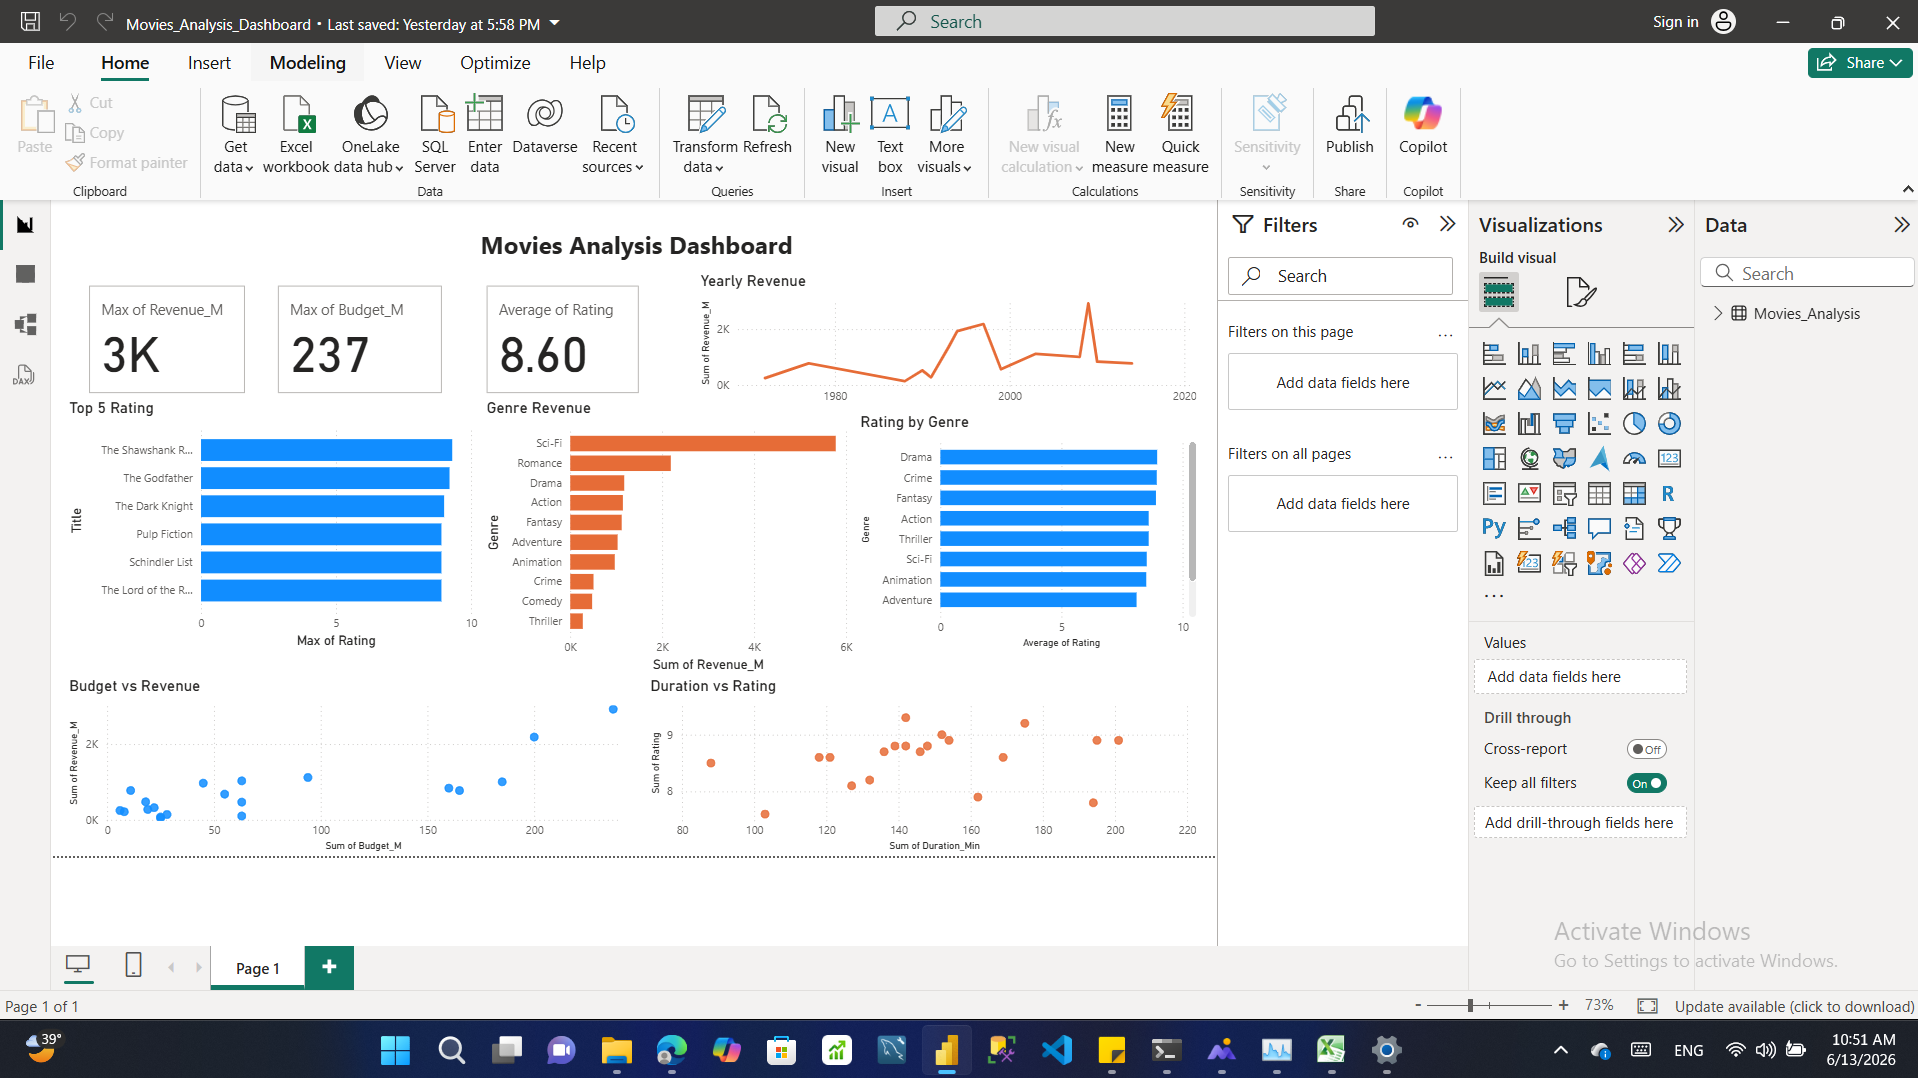

This screenshot's page, from the dashboard's own definition file:
{"tool":"powerbi","page":{"name":"Page 1","canvas":[1280,720],"ordinal":0},"visuals":[{"type":"cardVisual","fields":{"Data":["Max(Movies_Analysis.Revenue_M)"]},"box":[37,89.2,181.1,129],"z":0},{"type":"cardVisual","fields":{"Data":["Max(Movies_Analysis.Budget_M)"]},"box":[244.3,89.2,190.7,129],"z":1},{"type":"cardVisual","fields":{"Data":["Avg(Movies_Analysis.Rating)"]},"box":[473.4,89.2,177,129],"z":2},{"type":"clusteredBarChart","title":"Top 5 Rating ","fields":{"Category":["Movies_Analysis.Title"],"Y":["Max(Movies_Analysis.Rating)"]},"box":[15.1,218.2,458.3,278.6],"z":3},{"type":"clusteredBarChart","title":"Genre Revenue ","fields":{"Category":["Movies_Analysis.Genre"],"Y":["Sum(Movies_Analysis.Revenue_M)"]},"box":[473.4,218.2,411.7,304.6],"z":4},{"type":"lineChart","title":"Yearly Revenue ","fields":{"Category":["Movies_Analysis.Year"],"Y":["Sum(Movies_Analysis.Revenue_M)"]},"box":[708.1,78.2,554.4,155.1],"z":5},{"type":"scatterChart","title":"Budget vs Revenue ","fields":{"X":["Sum(Movies_Analysis.Budget_M)"],"Y":["Sum(Movies_Analysis.Revenue_M)"],"Category":["Movies_Analysis.Title"]},"box":[15.1,522.8,624.4,197.6],"z":6},{"type":"scatterChart","title":"Duration vs Rating","fields":{"X":["Sum(Movies_Analysis.Duration_Min)"],"Y":["Sum(Movies_Analysis.Rating)"],"Category":["Movies_Analysis.Title"]},"box":[653.2,522.8,609.3,197.6],"z":7},{"type":"clusteredBarChart","title":"Rating by Genre","fields":{"Category":["Movies_Analysis.Genre"],"Y":["Avg(Movies_Analysis.Rating)"]},"box":[883.7,233.3,378.7,263.5],"z":8},{"type":"textbox","box":[37,26.1,1211.7,52.1],"z":9}]}

Visuals, with their boxes on the page's 1280x720 design canvas (x1, y1, x2, y2). These are canvas units, not pixel positions in the 1918x1078 screenshot, which may show the page scaled, cropped or inside an application window:
cardVisual - Max(Movies_Analysis.Revenue_M): box=[37, 89, 218, 218]
cardVisual - Max(Movies_Analysis.Budget_M): box=[244, 89, 435, 218]
cardVisual - Avg(Movies_Analysis.Rating): box=[473, 89, 650, 218]
"Top 5 Rating " clusteredBarChart: box=[15, 218, 473, 497]
"Genre Revenue " clusteredBarChart: box=[473, 218, 885, 523]
"Yearly Revenue " lineChart: box=[708, 78, 1262, 233]
"Budget vs Revenue " scatterChart: box=[15, 523, 640, 720]
"Duration vs Rating" scatterChart: box=[653, 523, 1262, 720]
"Rating by Genre" clusteredBarChart: box=[884, 233, 1262, 497]
textbox: box=[37, 26, 1249, 78]
